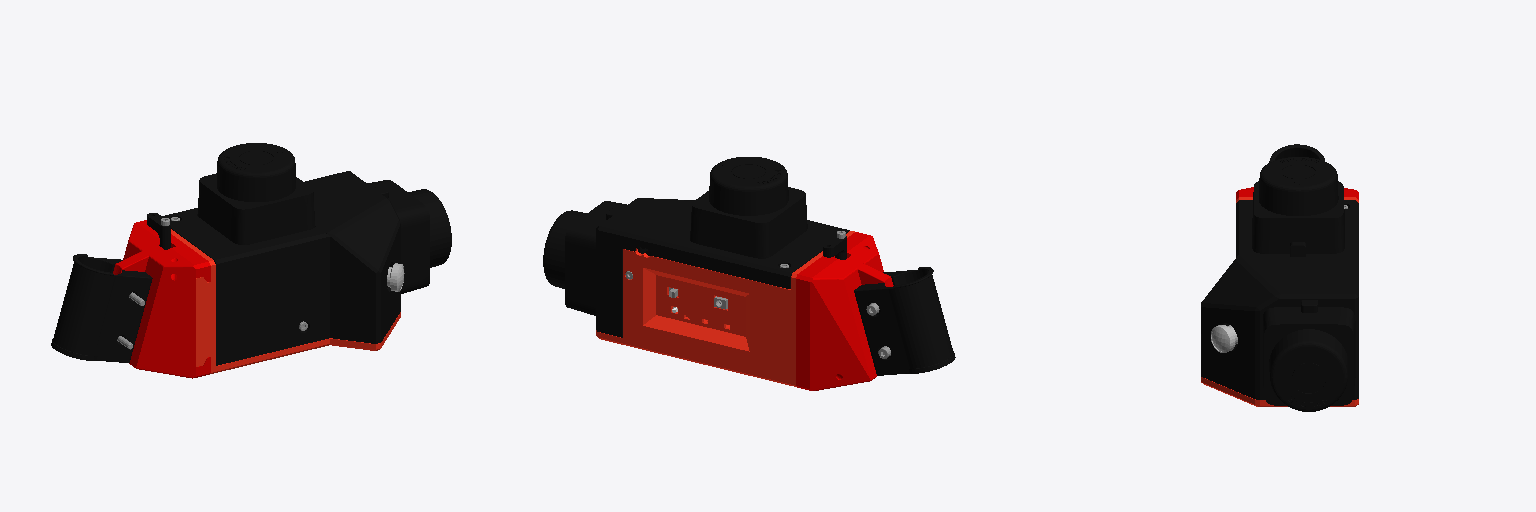
Rendered from module.obj.
3 views of the same model, side by side, from view 1: azimuth 30°, elevation 25°; view 2: azimuth 150°, elevation 25°; view 3: azimuth 270°, elevation 25° (orthographic).
Parts seen in each view (by area): view 1: boitier haut (1), Corps1:11, Corps1, seatpost clamp, Corps1:10, boitier haut; view 2: boitier haut, boitier haut (1), Corps1, Corps1:11, seatpost clamp, Corps1:10; view 3: boitier haut (1), Corps1:10, Corps1:11, boitier haut, Corps1:12, seatpost clamp.
Part boxes in pixels (bbox=[...]): boitier haut (1): bbox=[162, 171, 400, 365]; Corps1:11: bbox=[198, 143, 314, 244]; Corps1: bbox=[113, 220, 210, 378]; seatpost clamp: bbox=[51, 254, 152, 362]; Corps1:10: bbox=[367, 180, 451, 293]; boitier haut: bbox=[171, 229, 400, 374]; boitier haut: bbox=[596, 231, 854, 386]; boitier haut (1): bbox=[596, 198, 849, 337]; Corps1: bbox=[796, 232, 893, 390]; Corps1:11: bbox=[690, 157, 807, 258]; seatpost clamp: bbox=[854, 267, 955, 375]; Corps1:10: bbox=[543, 201, 626, 315]; boitier haut (1): bbox=[1201, 200, 1358, 399]; Corps1:10: bbox=[1263, 307, 1354, 411]; Corps1:11: bbox=[1252, 157, 1344, 253]; boitier haut: bbox=[1201, 197, 1358, 406]; Corps1:12: bbox=[1211, 325, 1237, 352]; seatpost clamp: bbox=[1269, 144, 1324, 162].
Bounding box in the file's own units: 267 × 118 × 94.89.